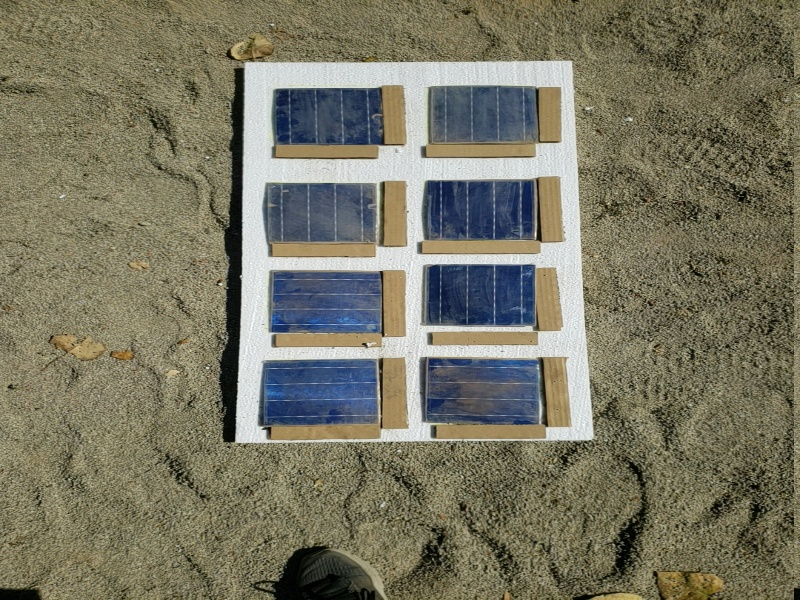dirty: (424, 355, 547, 426), (263, 181, 376, 246), (432, 87, 545, 149)
semi: (263, 354, 383, 425), (419, 263, 548, 328), (270, 272, 387, 335), (427, 179, 535, 244), (273, 87, 386, 148)
